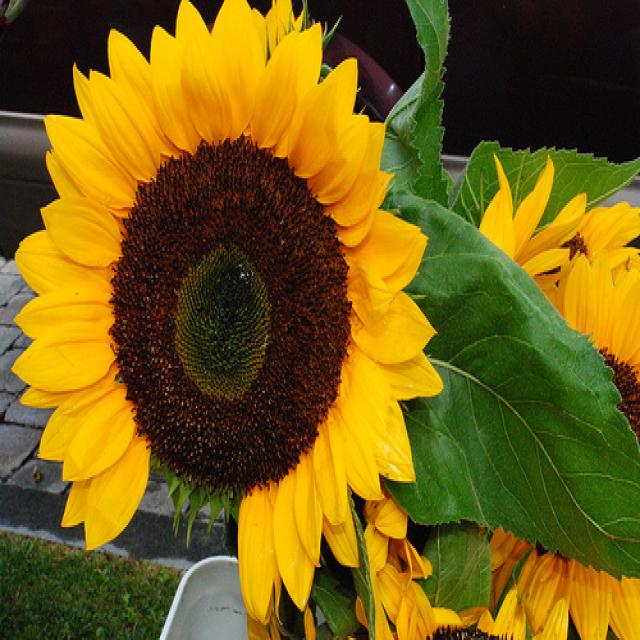sunflower: (18, 5, 425, 601)
